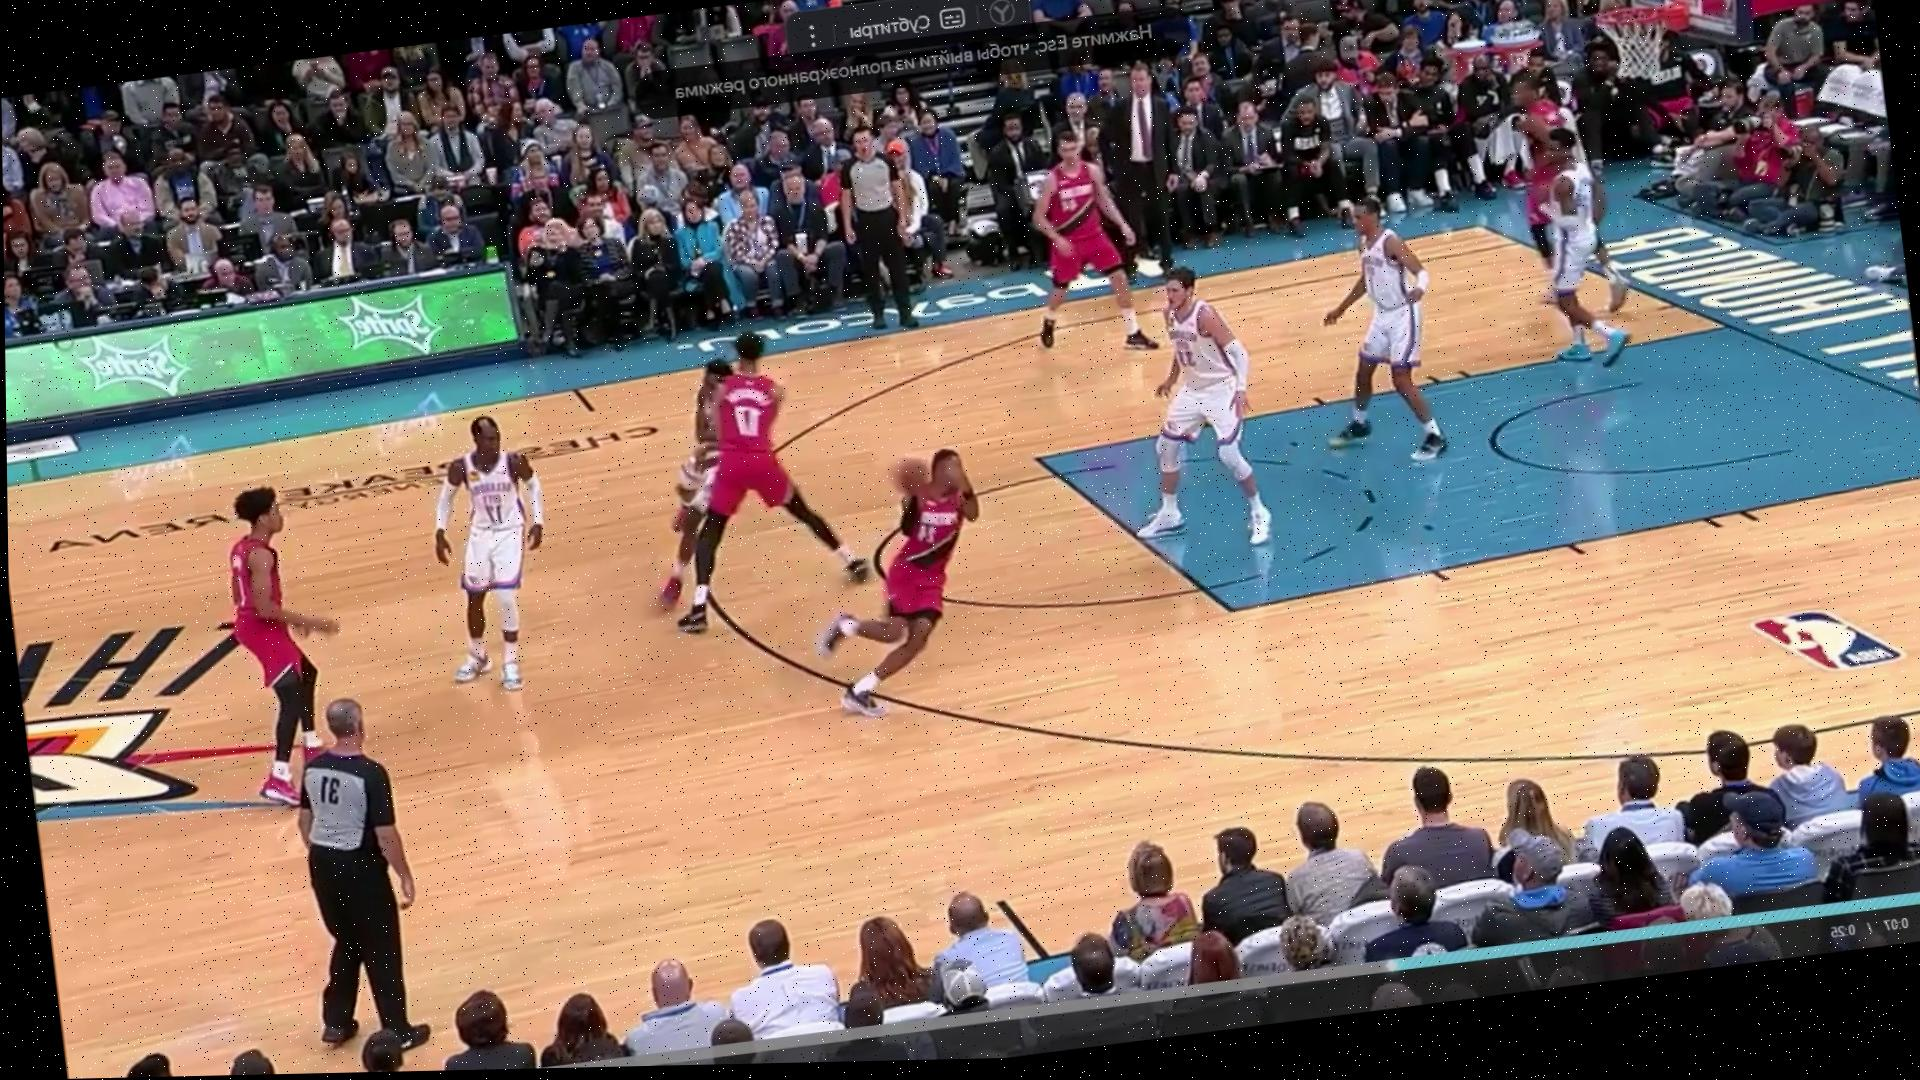foul: (613, 316, 845, 641)
